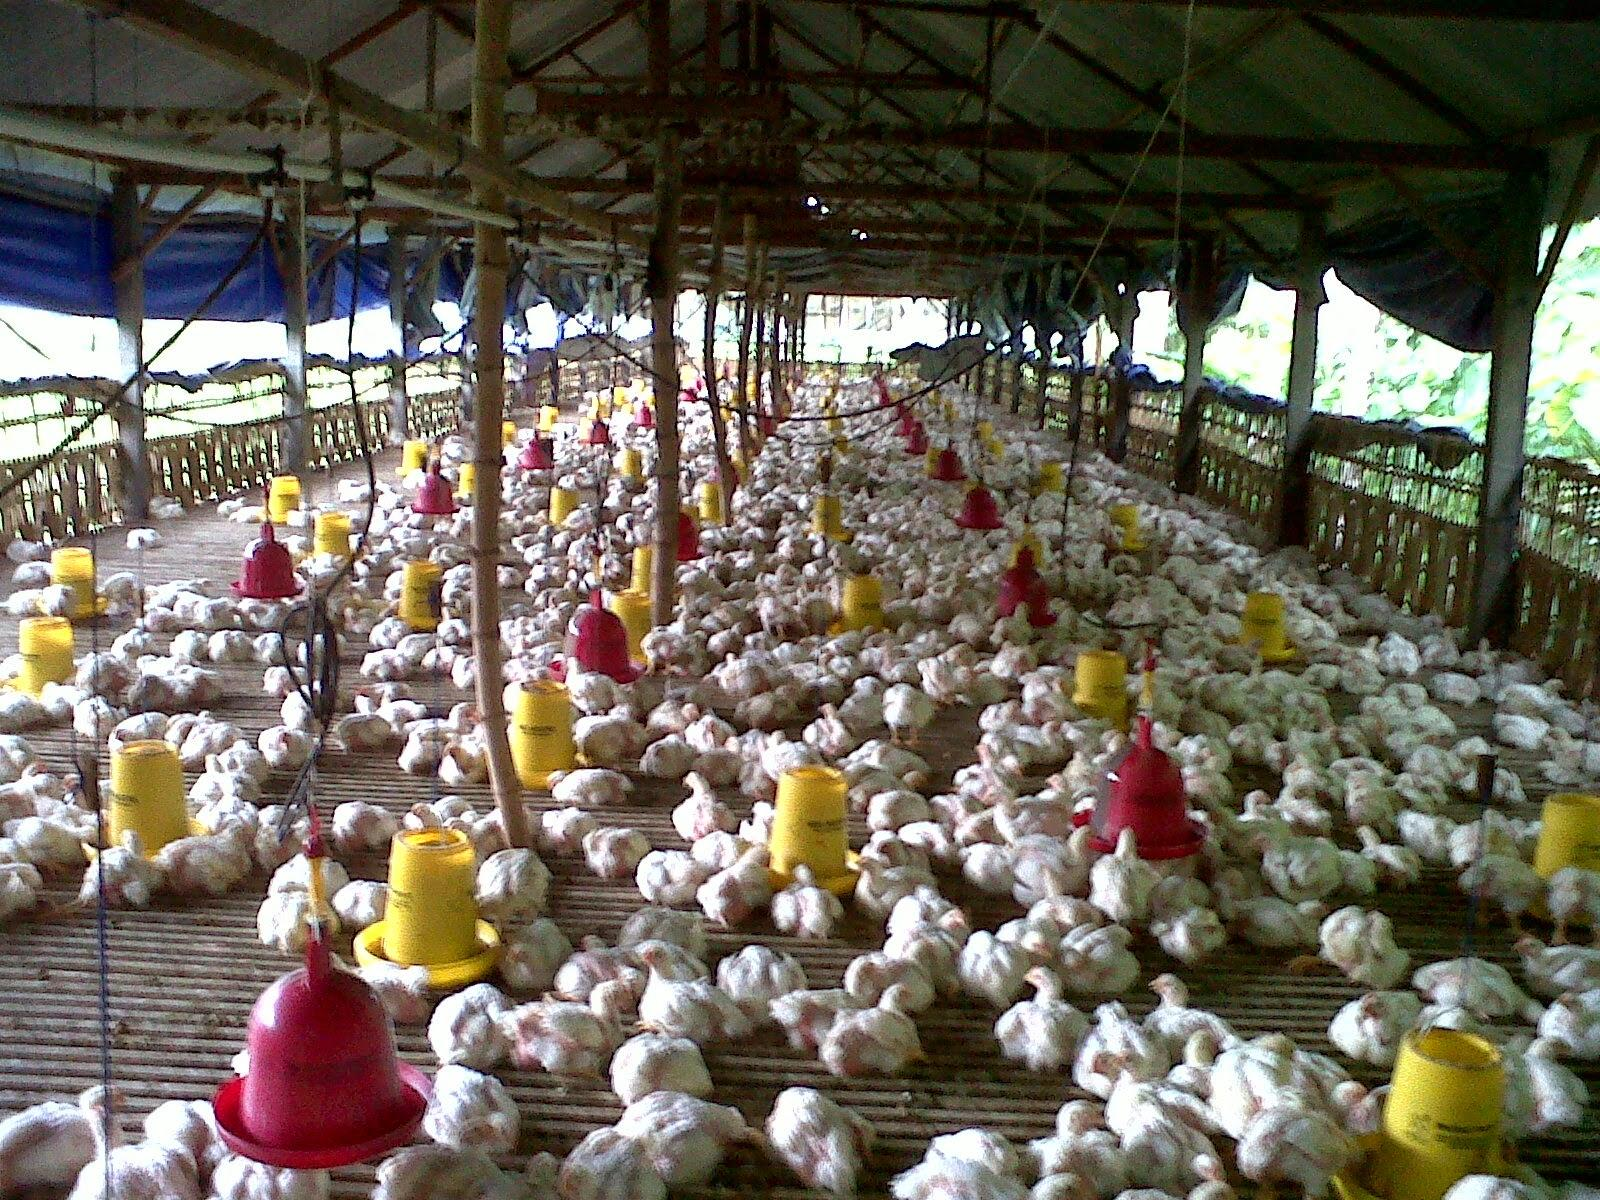chicken: (508, 978, 632, 1080), (770, 1084, 878, 1195), (639, 937, 756, 1039), (1241, 1084, 1359, 1182), (995, 966, 1090, 1066), (1495, 1034, 1584, 1137), (1026, 1102, 1128, 1190), (823, 986, 920, 1074), (427, 1064, 523, 1150), (1328, 986, 1426, 1059), (610, 1035, 713, 1102), (431, 981, 515, 1060), (722, 943, 806, 1022), (961, 929, 1048, 1006), (1322, 906, 1407, 982), (1461, 855, 1545, 932), (698, 845, 774, 926), (1146, 974, 1237, 1041), (1416, 955, 1516, 1016), (1092, 827, 1160, 915), (774, 860, 843, 938), (853, 855, 937, 918), (477, 851, 551, 920), (1063, 923, 1136, 992), (1514, 934, 1600, 991), (1233, 897, 1327, 948), (1157, 903, 1228, 963), (587, 822, 653, 880), (673, 773, 732, 836), (639, 850, 704, 905), (552, 765, 632, 807)
